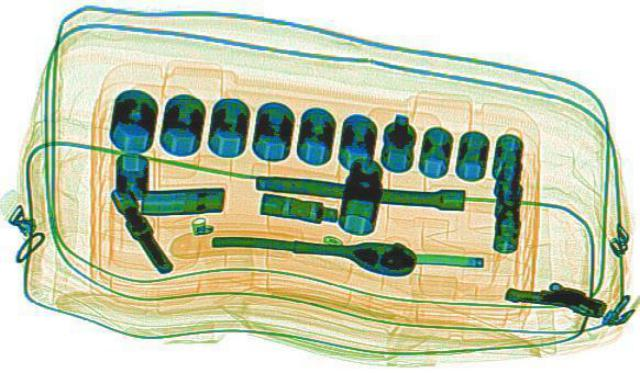Gun: (497, 273, 615, 317)
